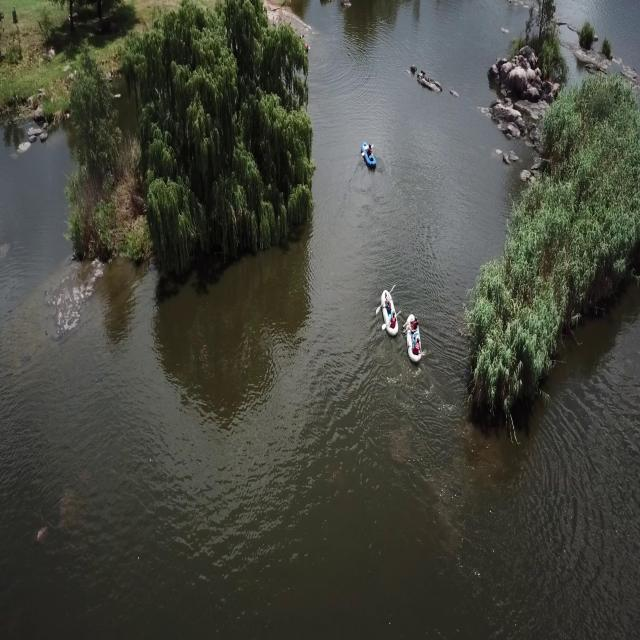kayak: (374, 278, 402, 337), (401, 309, 424, 365), (360, 140, 378, 169)
